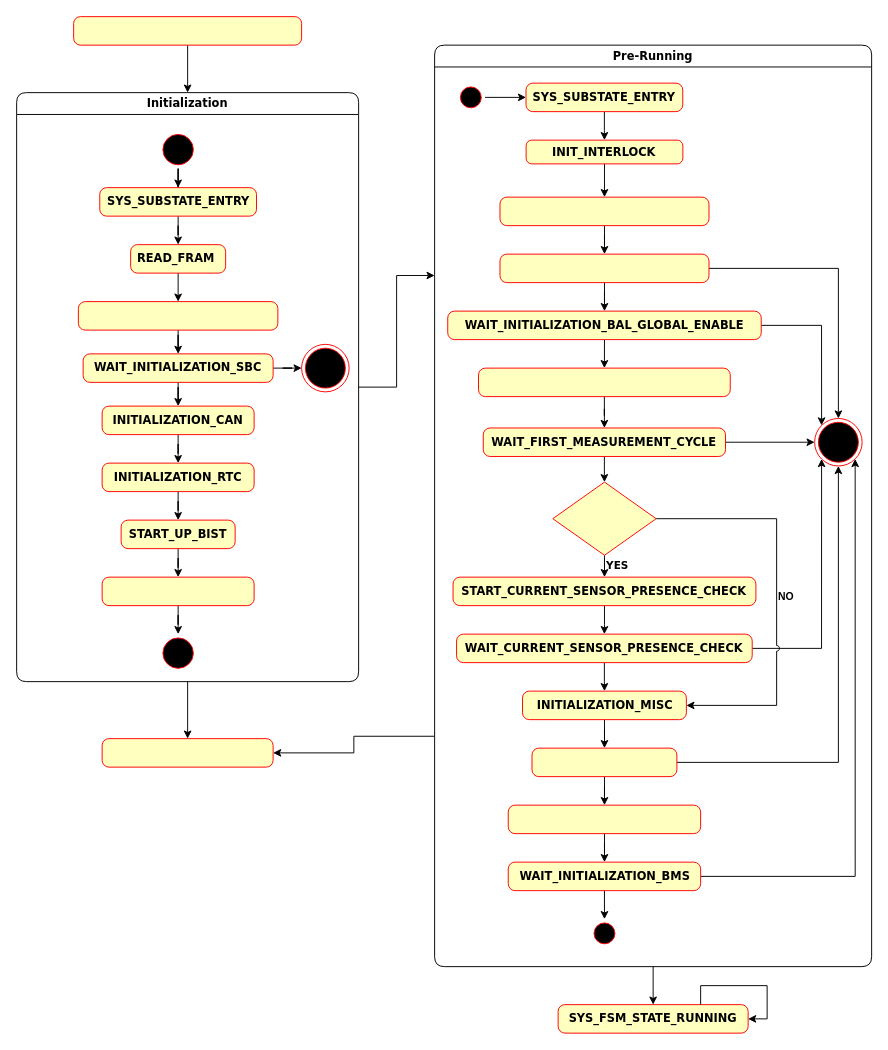
The diagram is 888 pixels wide and 1050 high, and some of its shapes have lost their labels. Each missing label, with the centre of its shape:
"Current Sensor Present" goes at (x=604, y=518).
"INITIALIZATION_IMD" goes at (x=604, y=762).
"SEND_BOOT_MESSAGE" goes at (x=177, y=591).
"START_FIRST_MEASUREMENT_CYCLE" goes at (x=604, y=382).
"START_INITIALIZATION_BAL" goes at (x=604, y=211).
"START_INITIALIZATION_BMS" goes at (x=604, y=819).
"START_INITIALIZATION_SBC" goes at (x=177, y=315).
"SYS_FSM_STATE_ERROR" goes at (x=187, y=752).
"SYS_FSM_STATE_UNINITIALIZED" goes at (x=187, y=30).
"WAIT_INITIALIZATION_BAL" goes at (x=604, y=268).
